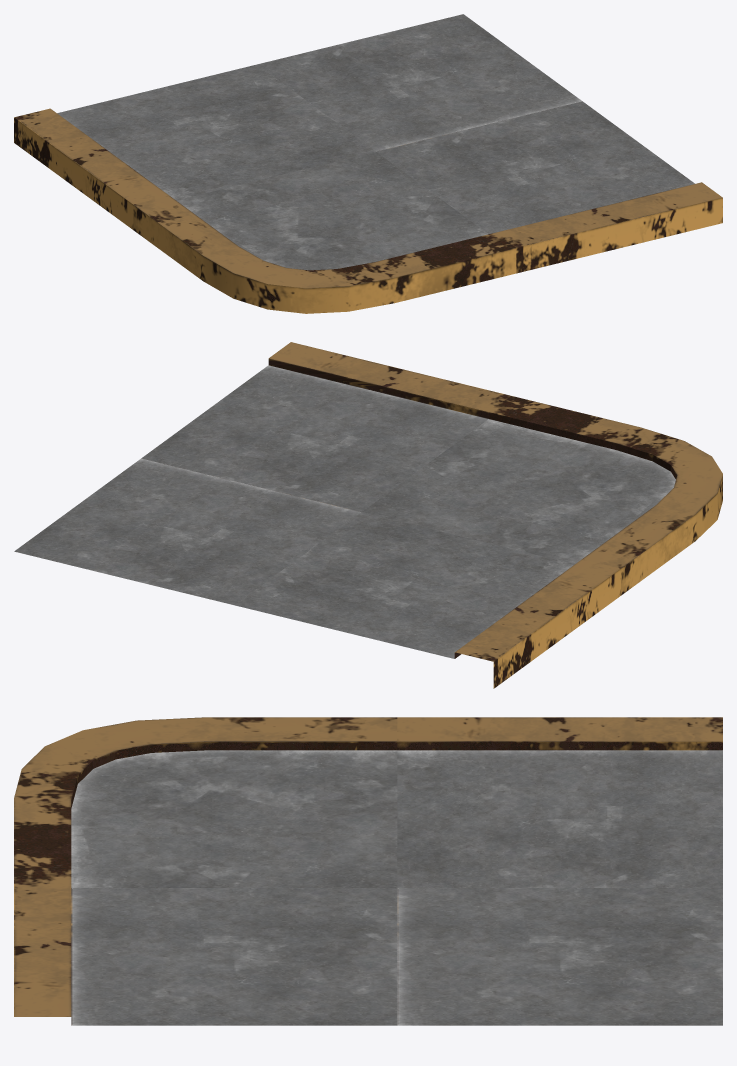
Rendered from Pavement Corner.fbx.
3 views of the same model, one above another, from view 1: azimuth 30°, elevation 25°; view 2: azimuth 150°, elevation 25°; view 3: azimuth 270°, elevation 25° (orthographic). The views are drawn at different scales.
Parts seen in each view (by area): view 1: Pavement Corner; view 2: Pavement Corner; view 3: Pavement Corner.
Part boxes in pixels (x1=…): Pavement Corner: x1=14, y1=14, x2=722, y2=313; Pavement Corner: x1=14, y1=342, x2=722, y2=688; Pavement Corner: x1=14, y1=717, x2=722, y2=1025.
Bounding box in the file's own units: 370 × 20 × 370.
